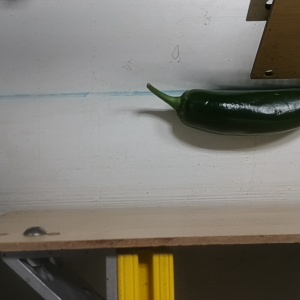Cut Point: (169, 88, 201, 128)
